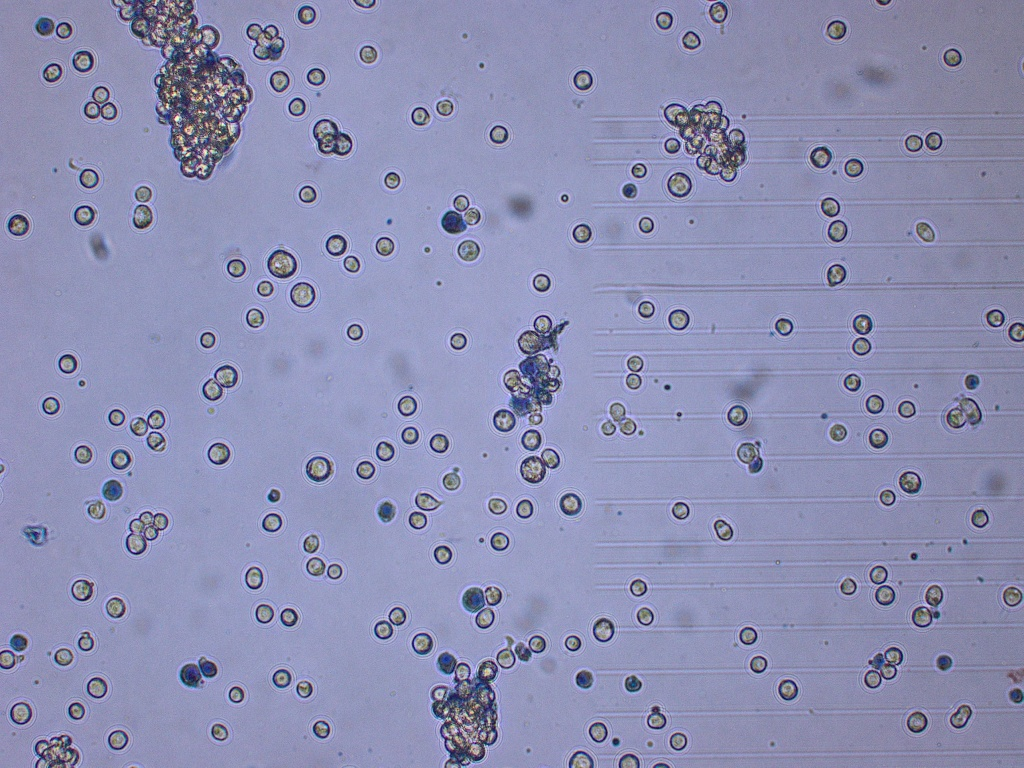Aggregate: (113, 1, 254, 182), (663, 99, 746, 184), (431, 678, 500, 768), (501, 353, 566, 425), (32, 730, 82, 768)
Alive: (266, 248, 295, 277), (290, 282, 316, 307), (520, 456, 545, 482), (306, 457, 332, 482), (959, 396, 981, 424), (667, 173, 691, 197), (494, 408, 515, 433), (133, 203, 152, 230), (899, 470, 921, 493), (559, 493, 582, 515), (72, 50, 94, 73), (207, 441, 229, 464), (593, 619, 614, 643), (70, 579, 94, 600), (810, 146, 831, 169), (778, 678, 799, 701), (456, 240, 479, 261), (518, 330, 539, 353), (415, 492, 443, 509), (911, 605, 932, 627), (907, 710, 929, 731), (8, 214, 30, 235), (216, 365, 238, 386), (10, 703, 31, 725), (728, 404, 748, 427), (951, 704, 970, 728), (105, 597, 125, 619), (87, 677, 107, 699), (413, 633, 432, 656), (203, 377, 221, 401), (568, 751, 593, 768), (828, 221, 848, 242), (875, 584, 896, 604), (827, 264, 846, 286), (522, 429, 541, 451), (270, 71, 289, 93), (1004, 585, 1022, 608), (543, 446, 561, 469), (708, 2, 728, 22), (737, 443, 757, 463), (74, 206, 95, 225), (225, 259, 247, 277), (245, 565, 263, 587), (844, 158, 864, 177), (868, 428, 888, 447), (970, 509, 990, 528), (869, 565, 889, 584), (925, 584, 944, 604), (670, 310, 689, 330), (407, 510, 427, 529), (255, 604, 275, 623), (589, 722, 608, 742), (43, 62, 62, 82), (126, 534, 146, 553), (850, 337, 871, 355), (326, 236, 347, 254), (476, 608, 494, 629), (147, 431, 165, 452), (430, 434, 449, 453), (110, 450, 129, 469), (573, 71, 593, 89), (826, 21, 846, 39), (853, 315, 871, 335), (946, 408, 964, 428), (713, 521, 733, 539), (246, 308, 264, 328), (280, 607, 298, 627), (374, 619, 392, 639), (497, 649, 515, 669), (74, 445, 92, 465), (774, 318, 795, 335), (399, 396, 416, 417), (821, 196, 839, 215), (842, 373, 861, 391), (897, 399, 916, 417), (885, 647, 903, 666), (516, 499, 534, 518), (434, 545, 452, 564), (307, 557, 325, 576), (529, 634, 547, 653), (54, 648, 73, 666), (109, 731, 128, 749), (944, 47, 961, 67), (297, 186, 317, 203), (298, 4, 315, 24), (647, 712, 668, 728), (572, 225, 590, 243), (986, 308, 1004, 326), (672, 500, 690, 518), (491, 532, 509, 550), (263, 514, 281, 532), (485, 585, 503, 603), (79, 170, 97, 188), (924, 132, 941, 151), (490, 126, 509, 143), (448, 332, 467, 349), (356, 462, 375, 479), (129, 417, 148, 434), (1008, 322, 1023, 343), (682, 31, 700, 48), (916, 222, 933, 240), (864, 396, 882, 413), (740, 627, 757, 645), (388, 607, 406, 624), (59, 355, 77, 372), (313, 720, 330, 738), (534, 273, 550, 292), (654, 12, 673, 28), (749, 657, 768, 673), (401, 425, 417, 444), (210, 723, 229, 739), (377, 442, 392, 462), (619, 753, 639, 768), (306, 69, 326, 84), (1, 648, 15, 669), (830, 424, 847, 441), (343, 255, 360, 272), (534, 313, 551, 330), (134, 186, 151, 203), (68, 703, 85, 720), (637, 608, 655, 624), (443, 474, 461, 490), (288, 98, 304, 116), (199, 331, 215, 349), (377, 236, 392, 255), (43, 395, 58, 414), (89, 499, 104, 518), (905, 134, 921, 151), (360, 47, 377, 63), (346, 322, 362, 339), (488, 498, 505, 514), (670, 732, 686, 749), (108, 409, 125, 425), (273, 670, 290, 686), (296, 679, 311, 697), (627, 355, 643, 371), (621, 419, 637, 435), (436, 100, 452, 116), (465, 208, 481, 224), (630, 162, 647, 177), (880, 488, 895, 505), (865, 670, 880, 687), (303, 536, 320, 551), (413, 107, 427, 125), (150, 410, 164, 428), (630, 579, 645, 595), (566, 635, 581, 651), (77, 634, 92, 650), (453, 195, 469, 210), (840, 579, 857, 593), (610, 402, 624, 419), (229, 686, 243, 703), (327, 564, 342, 579), (101, 103, 116, 118), (639, 217, 653, 233), (640, 300, 654, 316), (385, 173, 399, 189), (257, 281, 273, 295), (456, 663, 470, 679), (57, 22, 71, 38), (153, 512, 167, 528), (664, 139, 679, 153), (880, 666, 896, 679), (627, 373, 640, 389), (85, 101, 98, 117), (93, 87, 109, 100), (128, 518, 142, 532), (144, 526, 158, 540), (246, 24, 260, 38), (602, 421, 615, 435), (356, 1, 377, 7)
Dead: (441, 211, 464, 235), (180, 663, 203, 685), (462, 587, 481, 611), (102, 479, 123, 498), (437, 652, 455, 673), (377, 501, 394, 520), (35, 17, 52, 36), (624, 675, 641, 693), (198, 660, 217, 676), (576, 670, 593, 687), (935, 653, 951, 671), (870, 652, 886, 669), (622, 182, 639, 197), (10, 635, 28, 649), (965, 374, 979, 389), (1010, 687, 1023, 702)
